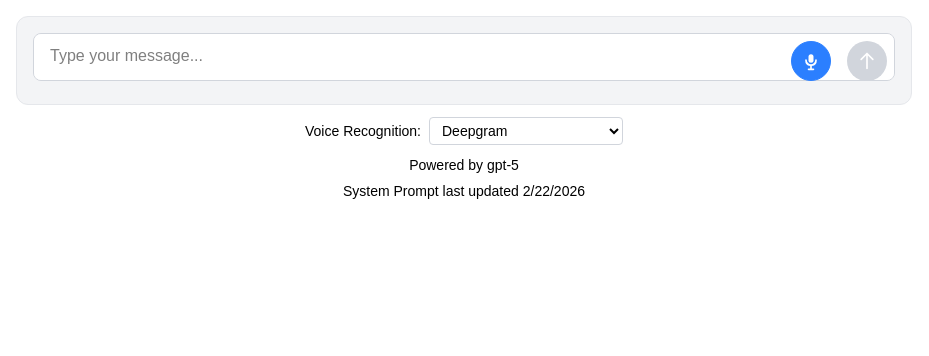
Chat microphone › stops browser recording when form is submitted
Select "Browser" in the dropdown named "tts method" at (526, 131), box [429,117,623,145]
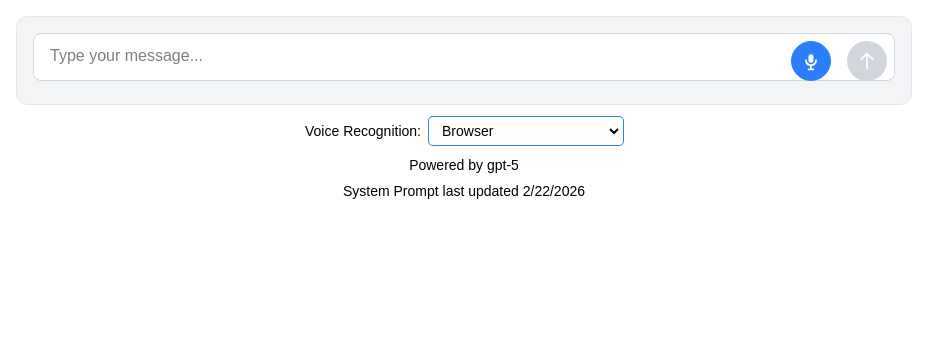
Click the button named "start recording" at (811, 60), box [791,40,831,80]
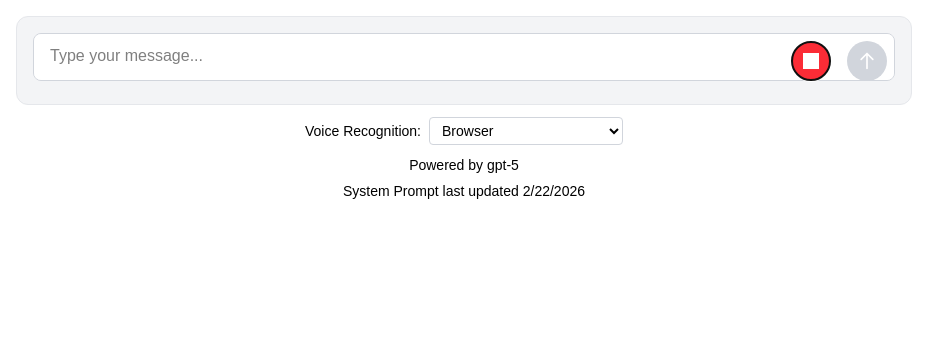
Result: the button named "stop recording" is shown at [791,40,831,80]
Type "hello" into the text box with placeholder "Type your message..." at (464, 57), box [33,33,895,81]
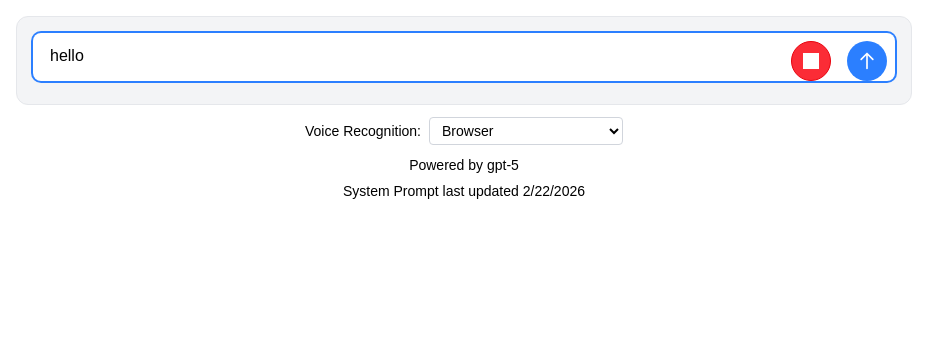
Press Enter
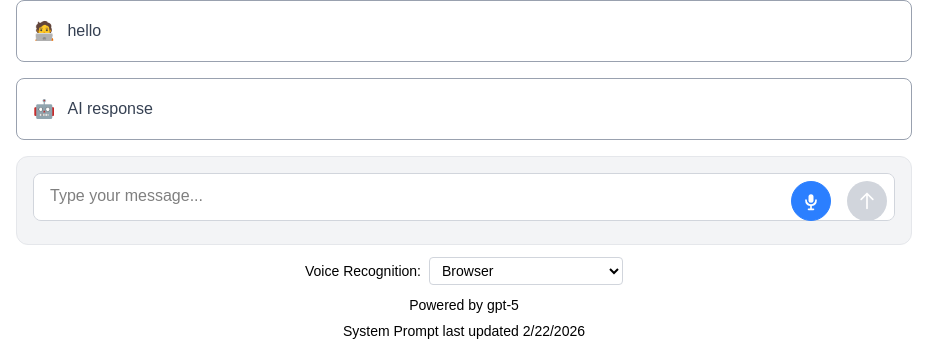
Result: the button named "start recording" is shown at [791,180,831,220]
